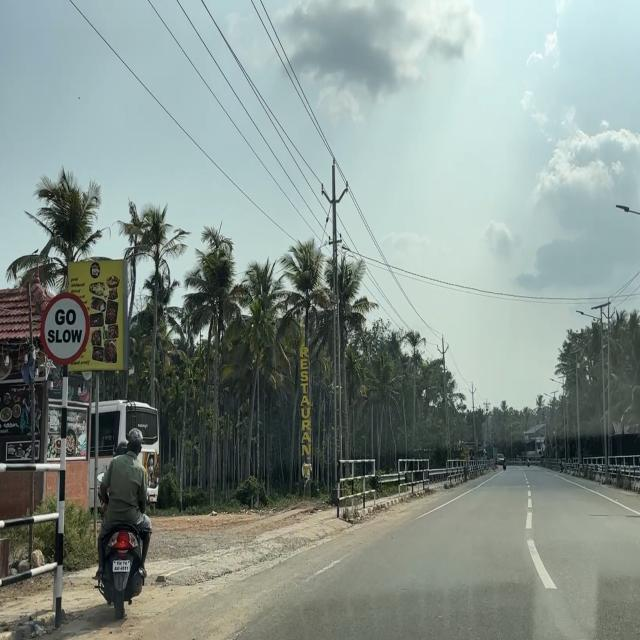GO_SLOW: (37, 287, 94, 369)
